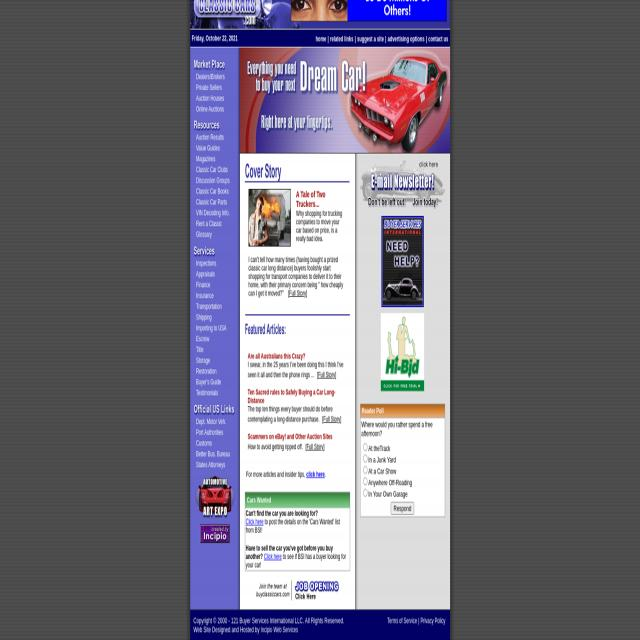button: (240, 48, 450, 153), (360, 159, 445, 210), (381, 216, 424, 307), (291, 0, 447, 22), (381, 313, 424, 391), (248, 189, 291, 247), (194, 0, 273, 26), (256, 580, 338, 600), (196, 476, 234, 518), (200, 524, 230, 543), (388, 35, 424, 43), (391, 502, 414, 514), (357, 35, 384, 43), (330, 35, 354, 43), (428, 35, 448, 43), (316, 35, 326, 43)
field: (363, 444, 367, 452), (363, 454, 367, 462), (363, 466, 367, 474), (363, 477, 367, 485), (363, 489, 367, 497)
